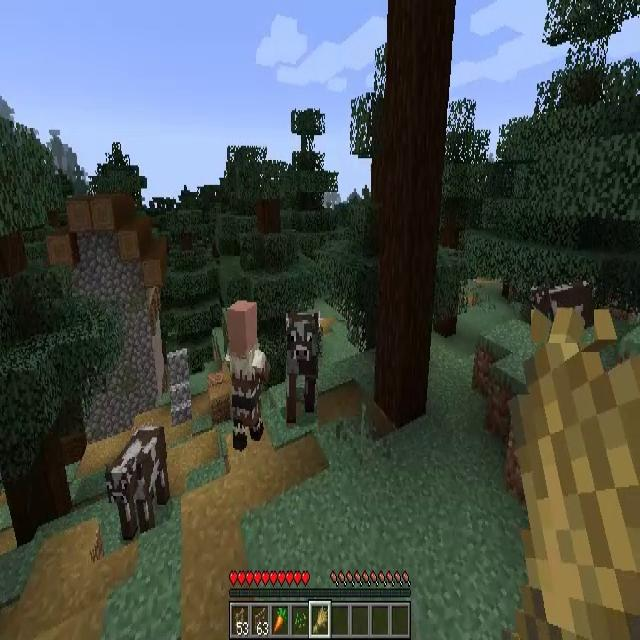cow: (110, 428, 170, 537), (531, 276, 594, 343), (286, 313, 318, 429)
people: (228, 299, 268, 450)
